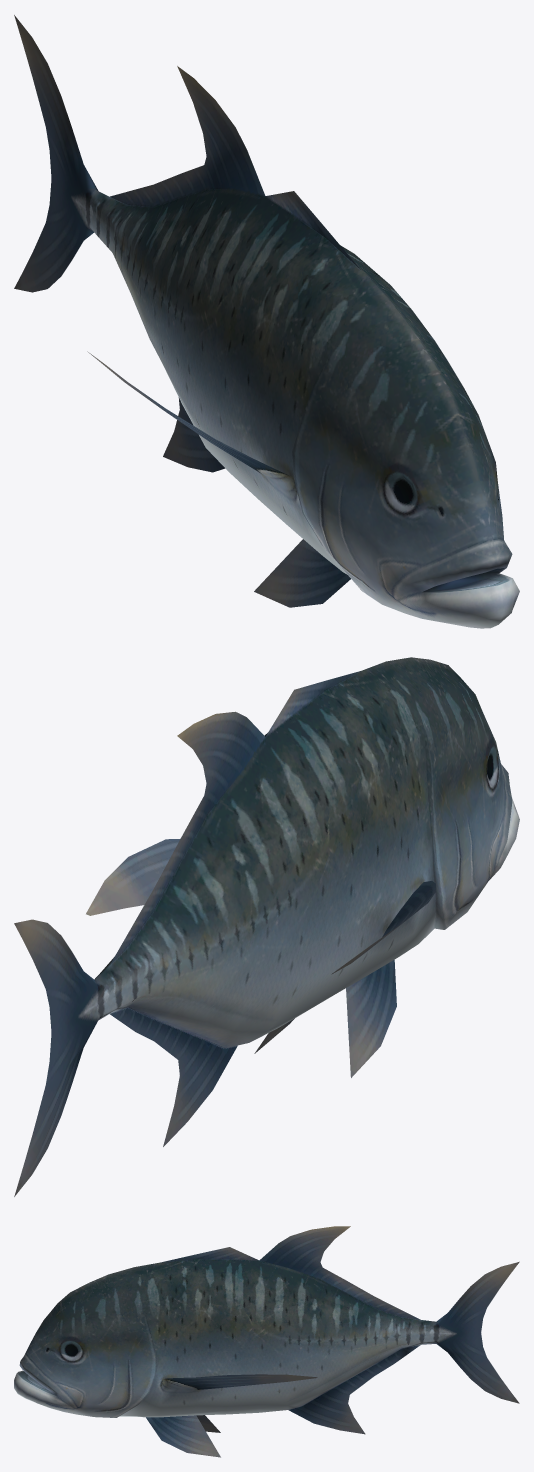
Rendered from FishRouninaji.glb.
The picture shows the model from 3 angles, top to bottom: view 1: azimuth 30°, elevation 25°; view 2: azimuth 150°, elevation 25°; view 3: azimuth 270°, elevation 25°; orthographic projection. The views are drawn at different scales.
Visible parts, largest first — view 1: FishRouninaji__mRouninaji; view 2: FishRouninaji__mRouninaji; view 3: FishRouninaji__mRouninaji.
Boxes of the visible parts, <box> form: FishRouninaji__mRouninaji: <box>14,15,519,628</box>; FishRouninaji__mRouninaji: <box>14,657,519,1196</box>; FishRouninaji__mRouninaji: <box>14,1226,519,1457</box>.
Bounding box in the file's own units: 4.54 × 6.69 × 14.02.
1 material, 1 textured.
